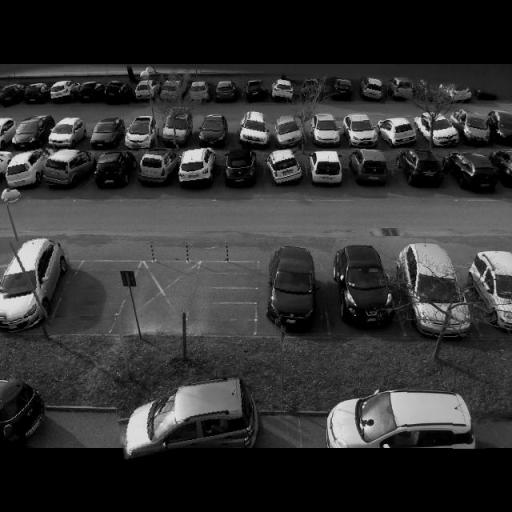busy: (116, 378, 263, 454), (328, 388, 486, 448), (0, 236, 76, 330), (333, 242, 406, 324), (266, 243, 330, 330), (398, 246, 468, 302), (0, 379, 47, 446), (444, 152, 506, 194), (475, 252, 511, 322), (40, 150, 94, 189), (398, 150, 450, 188), (173, 146, 217, 188), (2, 150, 48, 190), (90, 152, 136, 190), (349, 149, 395, 187), (136, 147, 178, 186), (220, 150, 262, 188), (266, 148, 306, 186), (454, 112, 498, 146), (47, 116, 89, 151), (308, 153, 350, 188), (236, 110, 273, 149), (422, 114, 463, 148), (10, 118, 52, 150), (380, 118, 423, 149), (272, 113, 309, 149), (344, 112, 382, 146), (87, 118, 126, 150), (120, 118, 158, 150), (162, 112, 196, 146), (195, 116, 231, 148), (309, 116, 344, 146), (486, 112, 512, 143), (358, 77, 390, 102), (102, 80, 133, 104), (270, 80, 300, 104), (442, 84, 478, 104), (493, 152, 512, 189), (328, 78, 358, 101), (296, 79, 326, 102), (416, 75, 440, 103), (388, 78, 417, 101), (212, 81, 241, 103), (48, 82, 77, 104), (76, 83, 106, 104), (188, 82, 215, 105), (132, 81, 160, 103), (242, 82, 270, 104), (0, 83, 26, 106), (160, 80, 187, 102), (20, 83, 48, 104), (1, 120, 15, 150)
